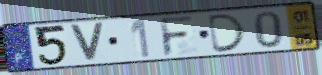0: (251, 10, 286, 50)
1: (127, 18, 151, 61)
5: (31, 23, 71, 67)
D: (207, 12, 249, 54)
F: (157, 14, 197, 58)
V: (67, 22, 106, 63)
